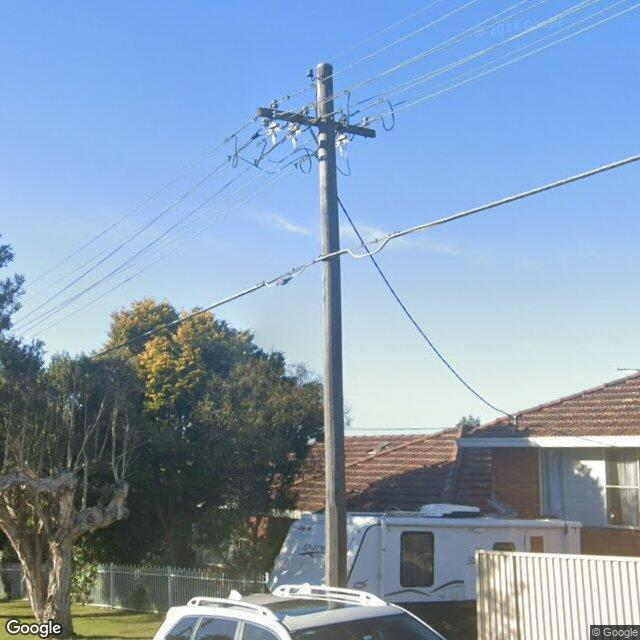crossarm: (254, 105, 376, 139)
timber-pole: (316, 62, 346, 590)
